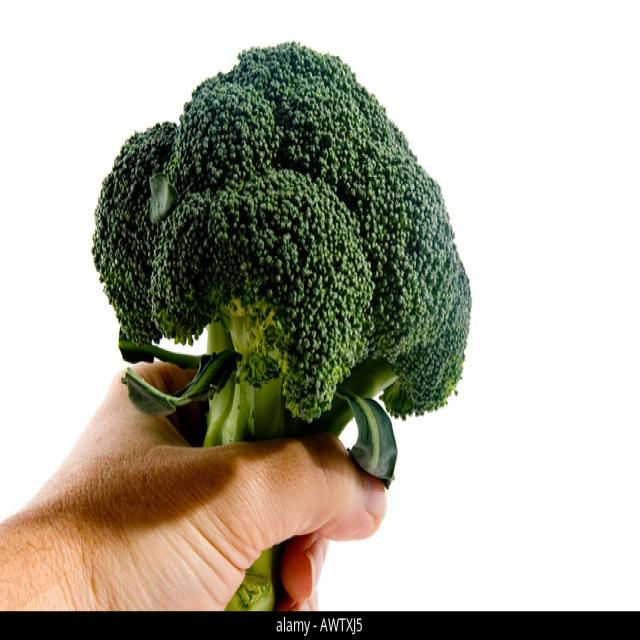broccoli: (92, 39, 474, 449)
